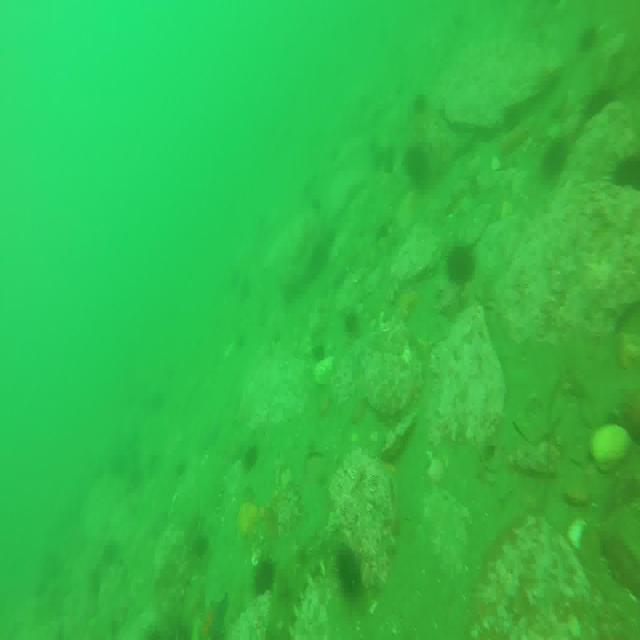echinus: (334, 550, 362, 598), (404, 142, 432, 186), (612, 153, 640, 192), (253, 556, 279, 598), (545, 136, 568, 178), (450, 250, 474, 289), (194, 532, 211, 560), (244, 443, 258, 470), (346, 307, 358, 335)
holothurian: (263, 535, 327, 640)
starfish: (198, 593, 232, 640)
